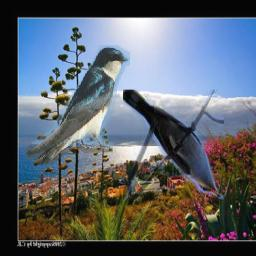Cuckoo: (122, 91, 223, 201)
Swallow: (26, 46, 130, 165)
